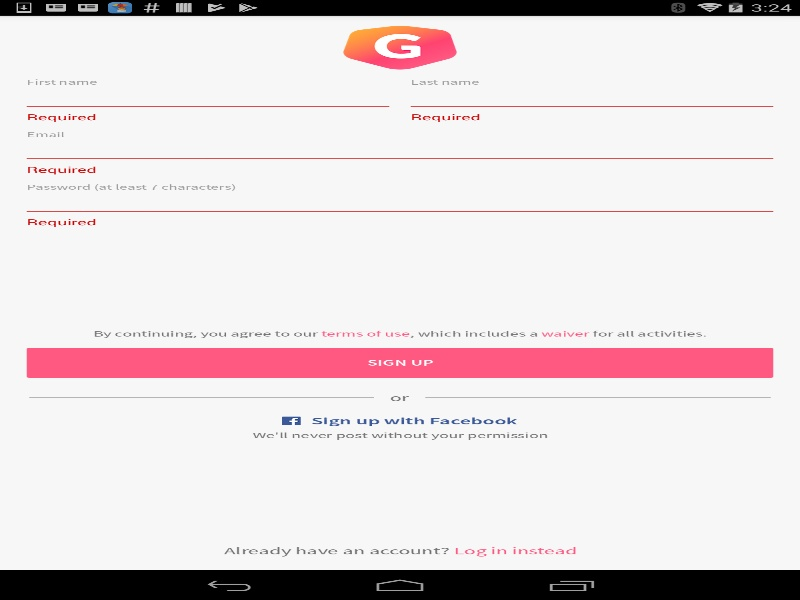Button: (21, 344, 778, 381)
Input: (21, 136, 778, 164), (21, 189, 778, 216), (21, 84, 394, 111), (405, 84, 778, 111)
